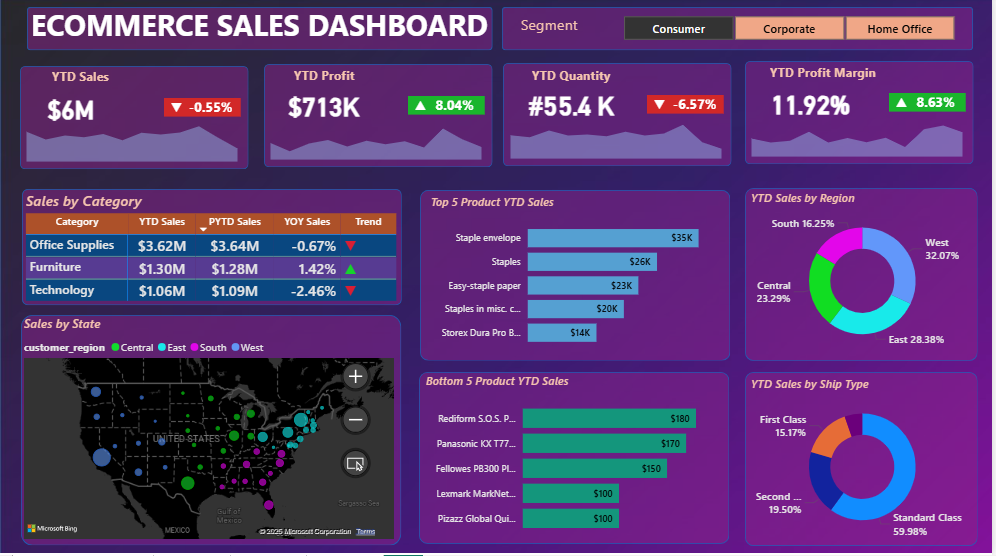

What the dashboard file says about the page in this screenshot:
{"tool":"powerbi","page":{"name":"E-Commerce Sales","canvas":[1280,720],"ordinal":0},"visuals":[{"type":"shape","box":[34.3,12.9,600.7,55.8],"z":0},{"type":"textbox","box":[34.3,5.7,606.4,61.5],"z":1000},{"type":"shape","box":[25.5,89.3,294.8,133.2],"z":2000},{"type":"card","fields":{"Values":["ecommerce_data.YTD Sales"]},"box":[18.8,120,143.8,46.2],"z":3000},{"type":"areaChart","fields":{"Category":["Calendar.Month"],"Y":["Sum(ecommerce_data.sales_per_order)"]},"box":[19.8,148.8,301.9,69.4],"z":4000},{"type":"shape","box":[211.2,130.4,99.2,24.1],"z":5000},{"type":"card","fields":{"Values":["ecommerce_data.YOY"]},"box":[232.4,129,79.4,25.5],"z":6000},{"type":"card","fields":{"Values":["ecommerce_data.Sales Icon"]},"box":[214,129,26.9,25.5],"z":7000},{"type":"textbox","box":[62.5,86.2,95,31.2],"z":8000},{"type":"shape","box":[340.2,86.5,294.8,133.2],"z":9000},{"type":"card","fields":{"Values":["ecommerce_data.YTD Profit"]},"box":[346.2,117.5,143.8,45],"z":10000},{"type":"shape","box":[525.9,127.6,99.2,24.1],"z":11000},{"type":"areaChart","fields":{"Category":["Calendar.Month"],"Y":["Sum(ecommerce_data.profit_per_order)"]},"box":[334.6,146.1,301.9,69.4],"z":12000},{"type":"card","fields":{"Values":["ecommerce_data.YOY Profit"]},"box":[547.2,126.2,79.4,25.5],"z":13000},{"type":"card","fields":{"Values":["ecommerce_data.Profit Icon"]},"box":[528.7,126.2,26.9,25.5],"z":14000},{"type":"textbox","box":[373.8,85,116.2,31.2],"z":15000},{"type":"shape","box":[649.3,85.2,294.8,133.2],"z":16000},{"type":"card","fields":{"Values":["ecommerce_data.YTD Concatenate Qty"]},"box":[666.3,116.4,143.1,45.4],"z":17000},{"type":"shape","box":[835,126.3,99.2,24.1],"z":18000},{"type":"areaChart","fields":{"Category":["Calendar.Month"],"Y":["Sum(ecommerce_data.order_quantity)"]},"box":[643.6,144.7,301.9,69.4],"z":19000},{"type":"card","fields":{"Values":["ecommerce_data.YOY Quantity"]},"box":[856.2,124.9,79.4,25.5],"z":20000},{"type":"card","fields":{"Values":["ecommerce_data.Quantity Icon"]},"box":[837.8,124.9,26.9,25.5],"z":21000},{"type":"textbox","box":[681.2,85,132.5,31.2],"z":22000},{"type":"shape","box":[961.1,82.3,294.8,133.2],"z":23000},{"type":"card","fields":{"Values":["ecommerce_data.YTD Profit margin"]},"box":[973.9,113,143,45.8],"z":24000},{"type":"shape","box":[1146.7,123.4,99.2,24.1],"z":25000},{"type":"areaChart","fields":{"Category":["Calendar.Month"],"Y":["ecommerce_data.Profit margin"]},"box":[955.4,141.9,301.9,69.4],"z":26000},{"type":"card","fields":{"Values":["ecommerce_data.YOY Profit margin"]},"box":[1168,122,79.4,25.5],"z":27000},{"type":"card","fields":{"Values":["ecommerce_data.Profit margin Icon"]},"box":[1149.6,122,26.9,25.5],"z":28000},{"type":"textbox","box":[988.2,81.5,158.7,31.5],"z":29000},{"type":"shape","box":[28.3,248.3,490,150],"z":30000},{"type":"pivotTable","title":"Sales by Category ","fields":{"Rows":["ecommerce_data.category_name"],"Values":["ecommerce_data.YTD Sales","ecommerce_data.PYTD Sales","ecommerce_data.YOY Sales","ecommerce_data.Sales Icon"]},"box":[28.6,248.8,490.5,150.2],"z":31000},{"type":"shape","box":[27.2,410.5,490.5,297.5],"z":32000},{"type":"map","title":"Sales by State","fields":{"Y":["us_state_long_lat_codes.latitude"],"X":["us_state_long_lat_codes.longitude"],"Size":["ecommerce_data.YTD Sales"],"Series":["ecommerce_data.customer_region"]},"box":[25.7,410.5,487.7,294.6],"z":33000},{"type":"shape","box":[542,248.8,400.4,220.2],"z":34000},{"type":"shape","box":[540.6,483.4,400.4,221.7],"z":35000},{"type":"barChart","title":"Top 5 Product YTD Sales","fields":{"Category":["ecommerce_data.product_name"],"Y":["ecommerce_data.YTD Sales"]},"box":[550.6,254.6,390.4,208.8],"z":36000},{"type":"barChart","title":"Bottom 5 Product YTD Sales","fields":{"Category":["ecommerce_data.product_name"],"Y":["ecommerce_data.YTD Sales"]},"box":[544.9,484.8,390.4,218.8],"z":37000},{"type":"shape","box":[961.1,246,300.3,223.1],"z":37001},{"type":"shape","box":[961.1,483.4,300.3,224.5],"z":37002},{"type":"donutChart","title":"YTD Sales by Region ","fields":{"Category":["ecommerce_data.customer_region"],"Y":["ecommerce_data.YTD Sales"]},"box":[963.9,248.8,297.5,214.5],"z":37003},{"type":"donutChart","title":"YTD Sales by Ship Type ","fields":{"Y":["ecommerce_data.YTD Sales"],"Category":["ecommerce_data.shipping_type"]},"box":[963.9,489.1,297.5,214.5],"z":37004},{"type":"shape","box":[647.9,12.9,607.8,55.8],"z":37005},{"type":"slicer","fields":{"Values":["ecommerce_data.customer_segment"]},"box":[779.4,18.6,476.2,44.3],"z":37006},{"type":"textbox","box":[666.5,18.6,91.5,44.3],"z":37007}]}

Visuals, with their boxes in screenshot pixels (x1, y1, x2, y2), scaled from the page's 1280x720 canvas onto the 996x556 screenshot:
shape: 27 10 494 53
textbox: 27 4 499 52
shape: 20 69 249 172
card - ecommerce_data.YTD Sales: 15 93 127 128
areaChart - Calendar.Month x Sum(ecommerce_data.sales_per_order): 15 115 250 168
shape: 164 101 242 119
card - ecommerce_data.YOY: 181 100 243 119
card - ecommerce_data.Sales Icon: 167 100 187 119
textbox: 49 67 123 91
shape: 265 67 494 170
card - ecommerce_data.YTD Profit: 269 91 381 125
shape: 409 99 486 117
areaChart - Calendar.Month x Sum(ecommerce_data.profit_per_order): 260 113 495 166
card - ecommerce_data.YOY Profit: 426 97 488 117
card - ecommerce_data.Profit Icon: 411 97 432 117
textbox: 291 66 381 90
shape: 505 66 735 169
card - ecommerce_data.YTD Concatenate Qty: 518 90 630 125
shape: 650 98 727 116
areaChart - Calendar.Month x Sum(ecommerce_data.order_quantity): 501 112 736 165
card - ecommerce_data.YOY Quantity: 666 96 728 116
card - ecommerce_data.Quantity Icon: 652 96 673 116
textbox: 530 66 633 90
shape: 748 64 977 166
card - ecommerce_data.YTD Profit margin: 758 87 869 123
shape: 892 95 969 114
areaChart - Calendar.Month x ecommerce_data.Profit margin: 743 110 978 163
card - ecommerce_data.YOY Profit margin: 909 94 971 114
card - ecommerce_data.Profit margin Icon: 895 94 915 114
textbox: 769 63 892 87
shape: 22 192 403 308
"Sales by Category " pivotTable: 22 192 404 308
shape: 21 317 403 547
"Sales by State" map: 20 317 399 544
shape: 422 192 733 362
shape: 421 373 732 544
"Top 5 Product YTD Sales" barChart: 428 197 732 358
"Bottom 5 Product YTD Sales" barChart: 424 374 728 543
shape: 748 190 982 362
shape: 748 373 982 547
"YTD Sales by Region " donutChart: 750 192 982 358
"YTD Sales by Ship Type " donutChart: 750 378 982 543
shape: 504 10 977 53
slicer - ecommerce_data.customer_segment: 606 14 977 49
textbox: 519 14 590 49
